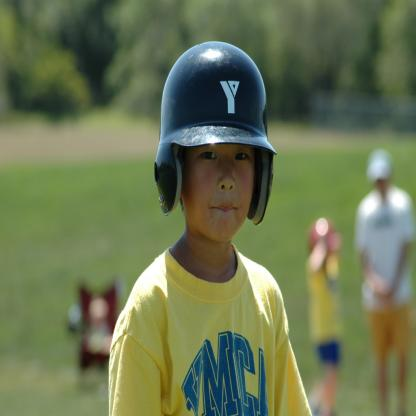Helmet: (154, 41, 276, 247)
